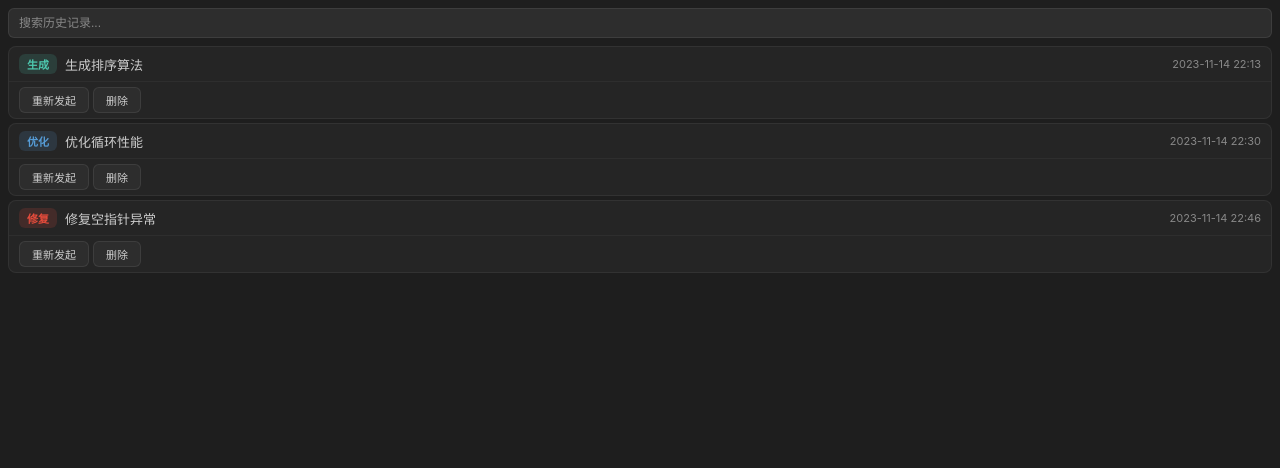
Test case: HistoryPanel › Expand/collapse details › should collapse detail when clicking the same record again
Step 1. Click the button with test id "history-item-summary-rec-1" → (38, 64), box 19,54 -> 1261,74
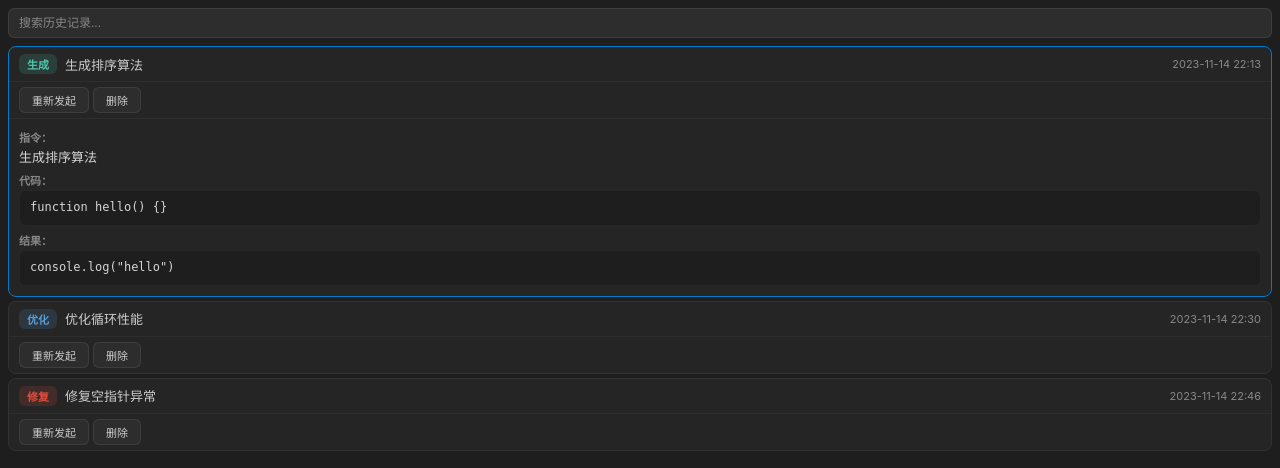
Now the element with test id "history-item-detail-rec-1" is shown, box 9,118 -> 1271,296
Step 2. Click the button with test id "history-item-summary-rec-1" → (38, 64), box 19,54 -> 1261,74
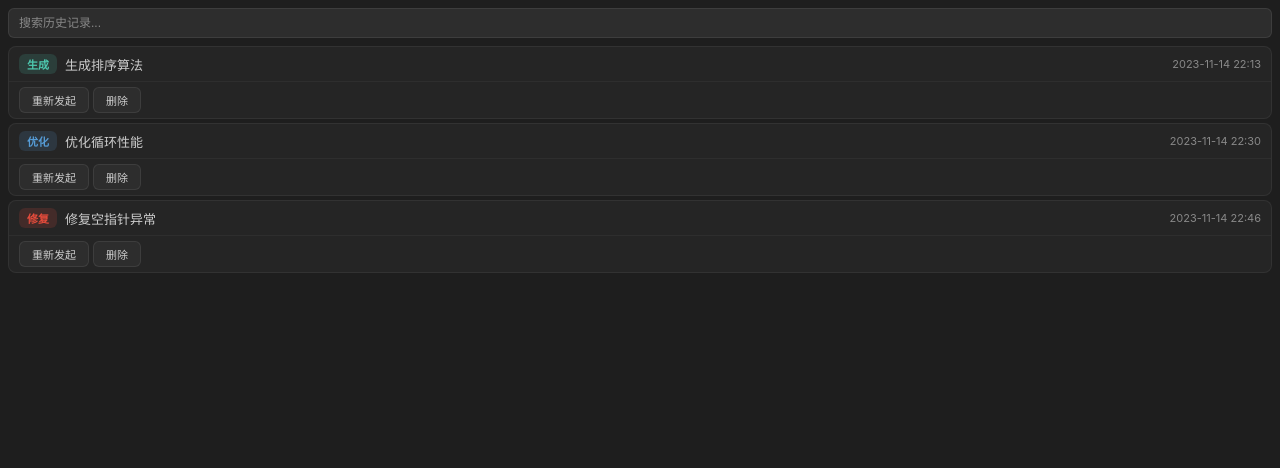
Now the element with test id "history-item-detail-rec-1" is gone
